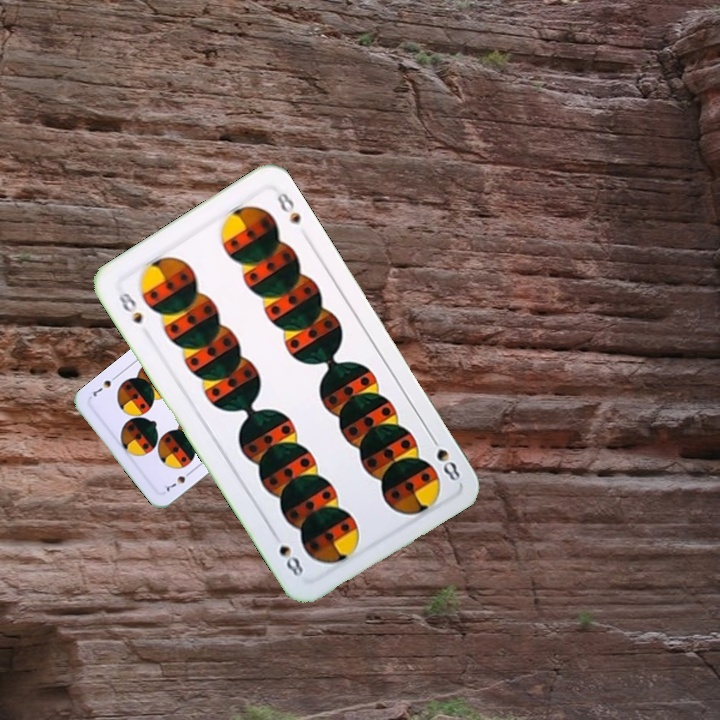S7: (160, 466, 195, 494)
S8: (425, 430, 463, 484), (114, 288, 146, 327)
